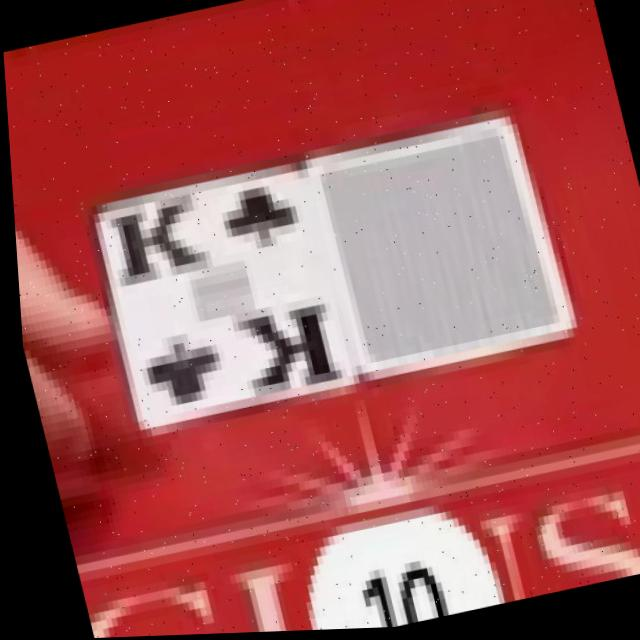Card-K: (91, 169, 352, 430)
